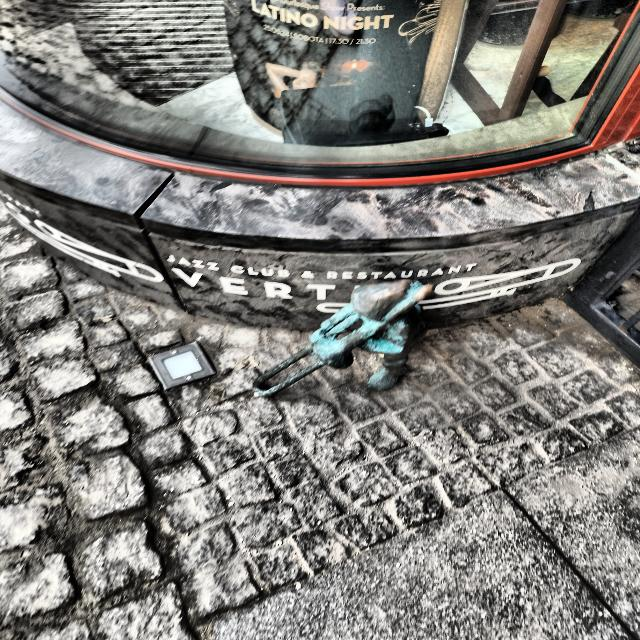Vertigus: (253, 280, 433, 396)
